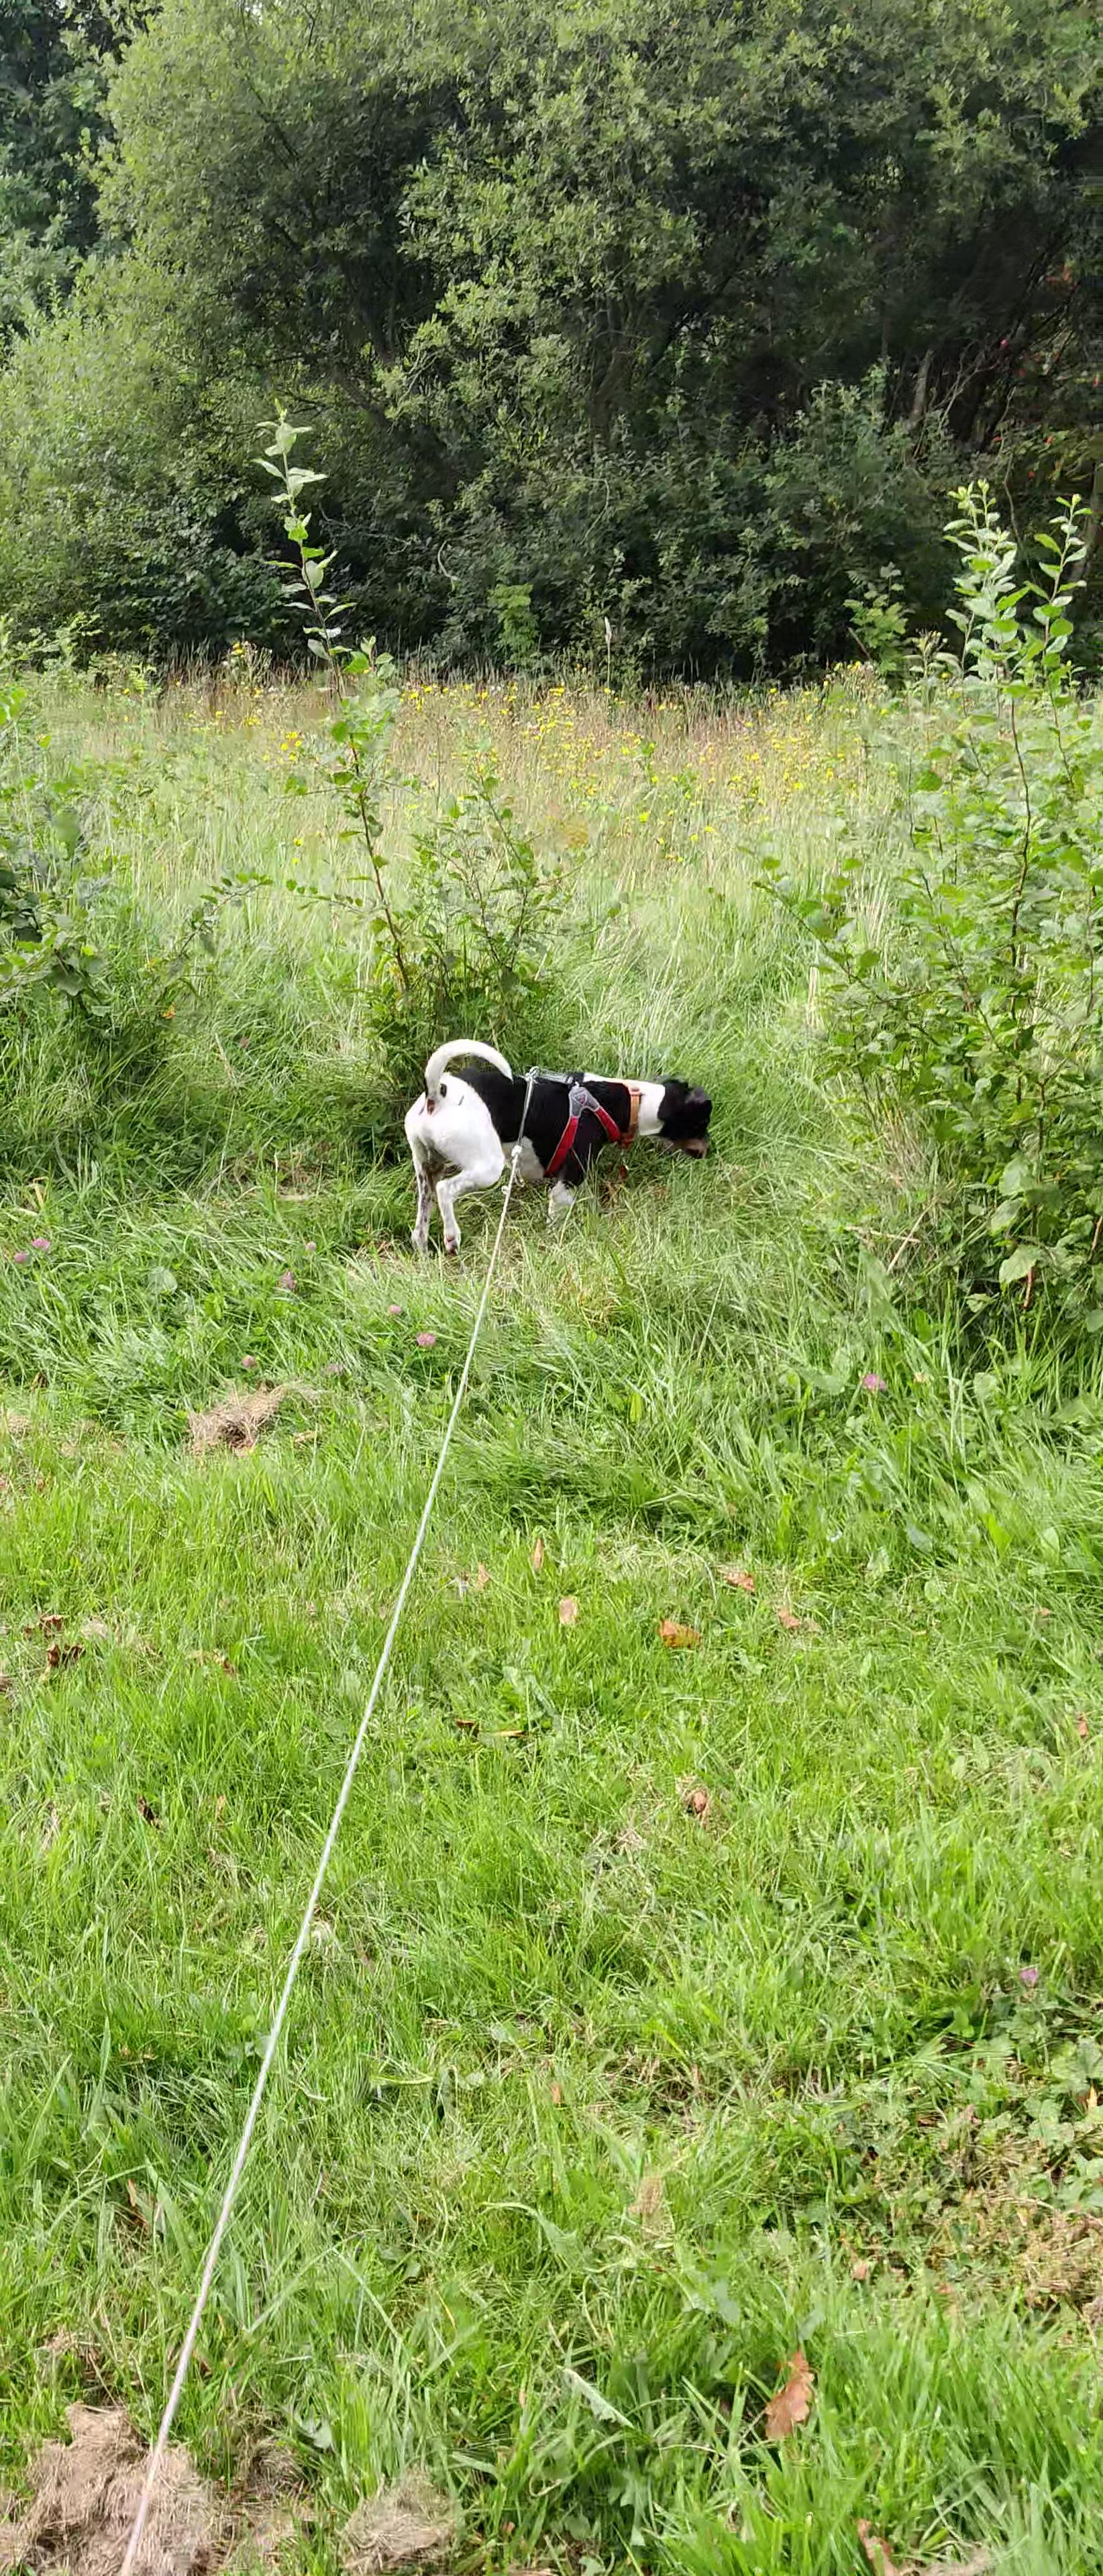Dog: (399, 1032, 727, 1260)
